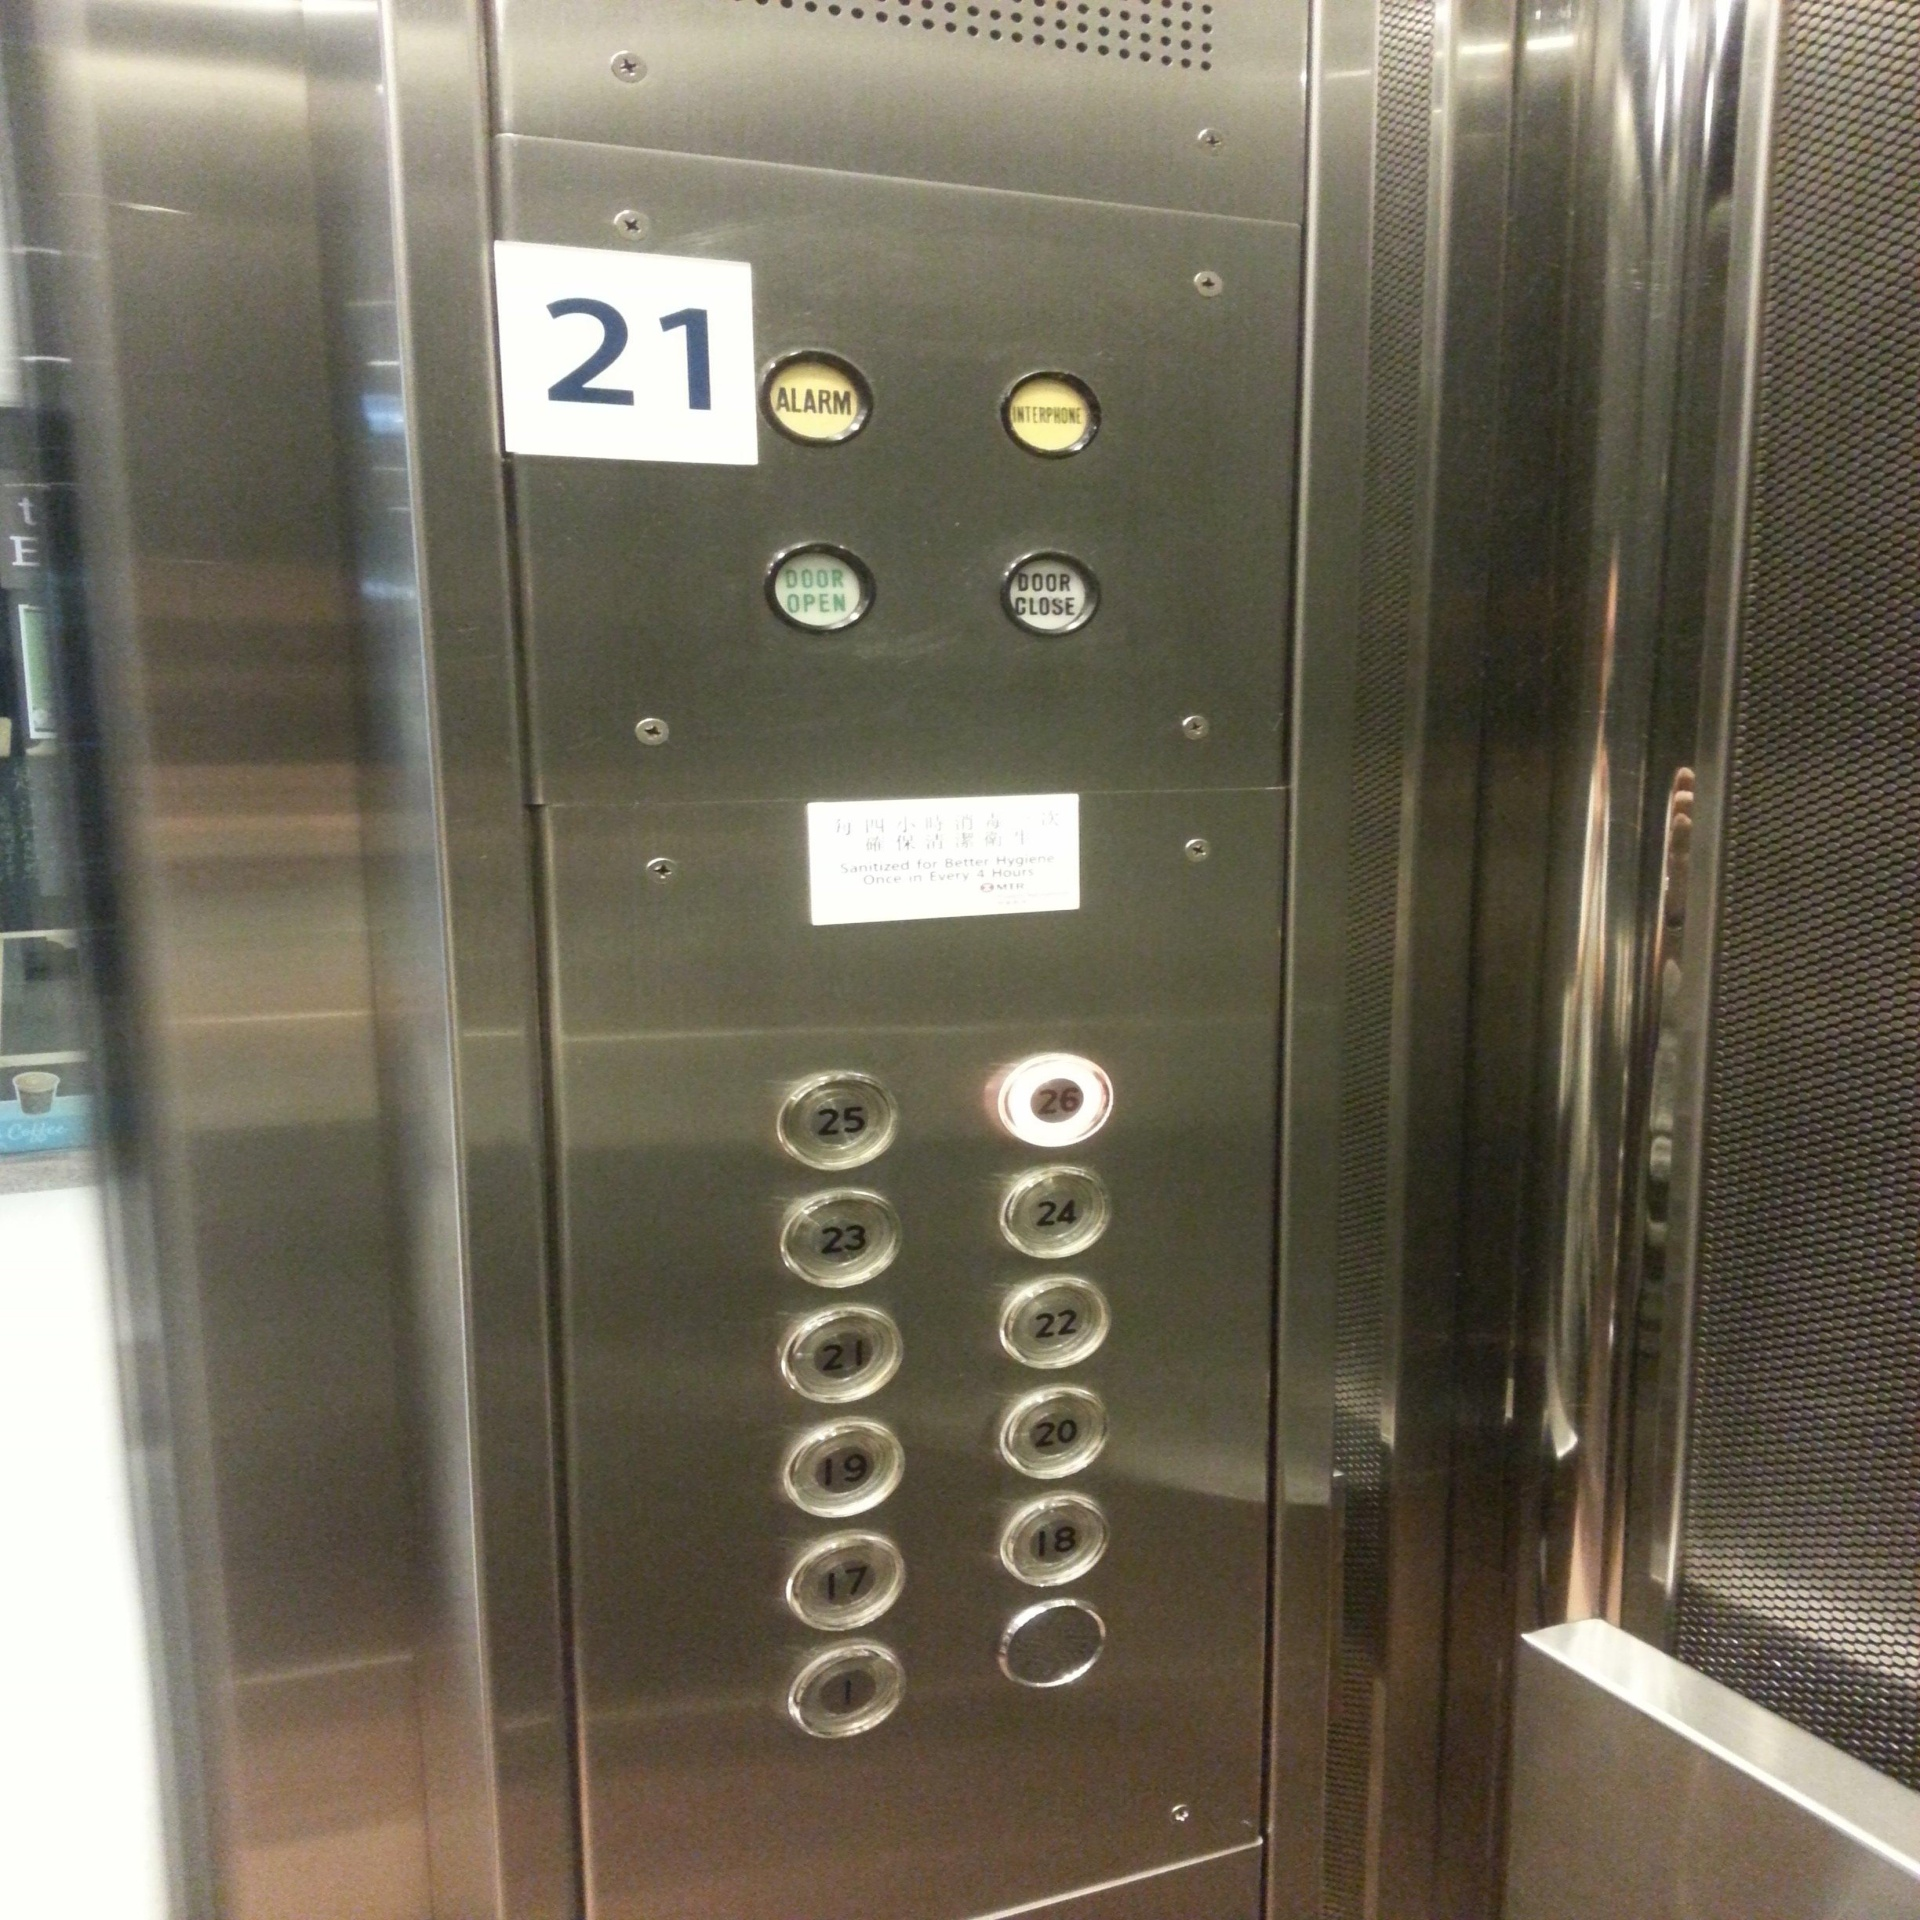1: (784, 1640, 905, 1741)
17: (788, 1531, 907, 1633)
18: (999, 1489, 1109, 1589)
19: (782, 1415, 907, 1517)
20: (995, 1384, 1109, 1480)
21: (775, 1303, 905, 1403)
22: (992, 1271, 1109, 1371)
23: (775, 1183, 905, 1292)
24: (995, 1164, 1115, 1261)
25: (774, 1067, 897, 1173)
26: (993, 1051, 1115, 1148)
empty: (995, 1596, 1108, 1688)
text: (758, 345, 877, 448), (758, 540, 881, 635), (999, 547, 1102, 640), (1000, 367, 1102, 461)
